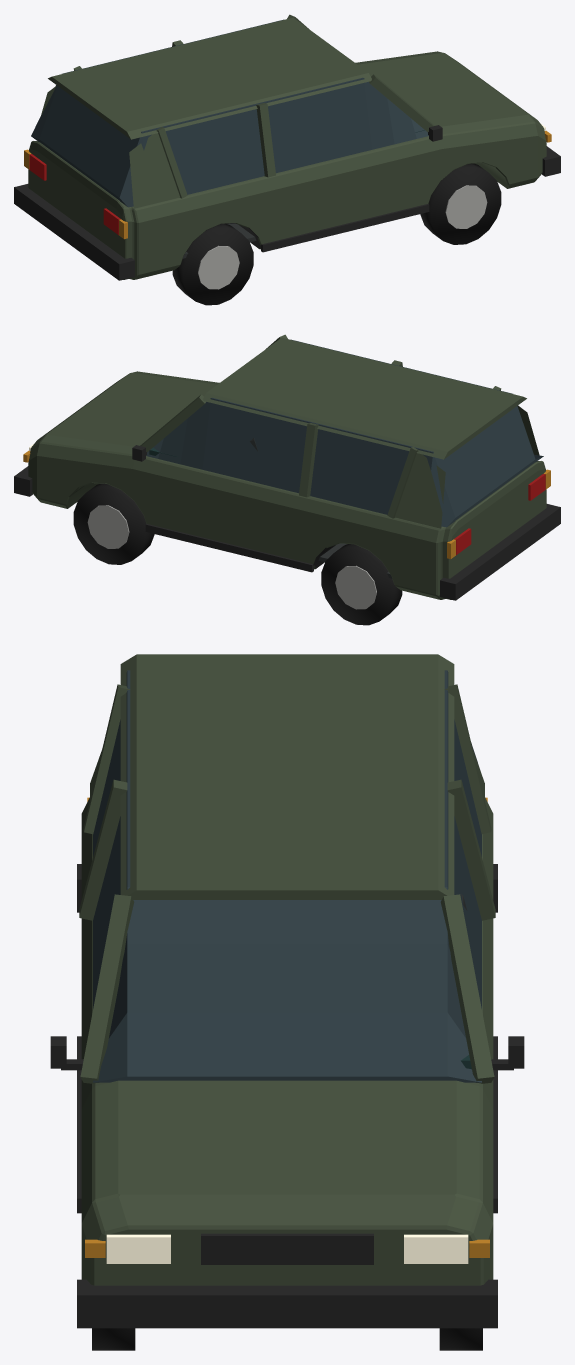
The model's file is korab.glb.
The picture shows the model from 3 angles, top to bottom: view 1: azimuth 30°, elevation 25°; view 2: azimuth 150°, elevation 25°; view 3: azimuth 270°, elevation 25°; orthographic projection. The views are drawn at different scales.
Parts seen in each view (by area): view 1: Body, Greenhouse, Roof, Tire_RR, Tire_FR, Bumper_R, Pillar_C_R, Sill_R, Hub_RR, Hub_FR, Pillar_B_R, Pillar_A_R (+2 smaller); view 2: Body, Greenhouse, Roof, Tire_RL, Tire_FL, Bumper_R, Pillar_C_L, Sill_L, Hub_RL, Hub_FL, Pillar_B_L, Pillar_A_L (+2 smaller); view 3: Roof, Body, Greenhouse, Bumper_F, Grille, Pillar_A_L, Pillar_A_R, Pillar_B_L, Pillar_B_R, Lamp_Head_L, Lamp_Head_R, Pillar_Cedge_L (+5 smaller).
Boxes of the visible parts, x1=… form: Body: x1=28, y1=51, x2=546, y2=279; Greenhouse: x1=31, y1=19, x2=428, y2=207; Roof: x1=48, y1=17, x2=371, y2=139; Tire_RR: x1=172, y1=224, x2=253, y2=305; Tire_FR: x1=420, y1=163, x2=501, y2=244; Bumper_R: x1=14, y1=184, x2=134, y2=280; Pillar_C_R: x1=129, y1=131, x2=180, y2=208; Sill_R: x1=261, y1=204, x2=429, y2=252; Hub_RR: x1=198, y1=245, x2=239, y2=289; Hub_FR: x1=445, y1=185, x2=487, y2=228; Pillar_B_R: x1=256, y1=103, x2=275, y2=177; Pillar_A_R: x1=369, y1=74, x2=434, y2=132; Body: x1=28, y1=371, x2=546, y2=599; Greenhouse: x1=146, y1=339, x2=543, y2=527; Roof: x1=203, y1=337, x2=526, y2=459; Tire_RL: x1=321, y1=544, x2=402, y2=625; Tire_FL: x1=73, y1=483, x2=154, y2=564; Bumper_R: x1=440, y1=504, x2=560, y2=600; Pillar_C_L: x1=394, y1=451, x2=445, y2=528; Sill_L: x1=145, y1=524, x2=313, y2=572; Hub_RL: x1=335, y1=565, x2=376, y2=609; Hub_FL: x1=87, y1=505, x2=129, y2=548; Pillar_B_L: x1=299, y1=423, x2=318, y2=497; Pillar_A_L: x1=140, y1=394, x2=205, y2=452; Roof: x1=120, y1=654, x2=454, y2=899; Body: x1=81, y1=797, x2=493, y2=1285; Greenhouse: x1=93, y1=670, x2=481, y2=1082; Bumper_F: x1=77, y1=1279, x2=497, y2=1328; Grille: x1=201, y1=1233, x2=373, y2=1264; Pillar_A_L: x1=440, y1=894, x2=494, y2=1083; Pillar_A_R: x1=80, y1=894, x2=134, y2=1083; Pillar_B_L: x1=447, y1=779, x2=495, y2=920; Pillar_B_R: x1=79, y1=779, x2=127, y2=920; Lamp_Head_L: x1=404, y1=1234, x2=468, y2=1263; Lamp_Head_R: x1=106, y1=1234, x2=170, y2=1263; Pillar_Cedge_L: x1=444, y1=684, x2=491, y2=834.
Size of the model in its own units: 4.46 by 1.78 by 2.07.
